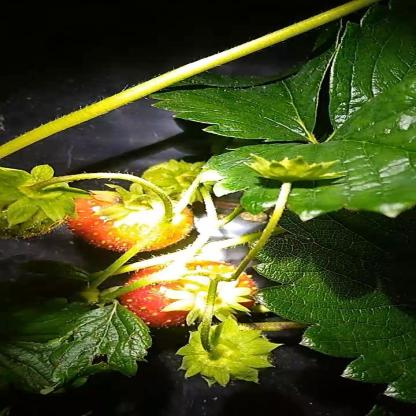ripe: (124, 260, 253, 325), (74, 190, 196, 250)
unripe: (139, 156, 226, 202)
